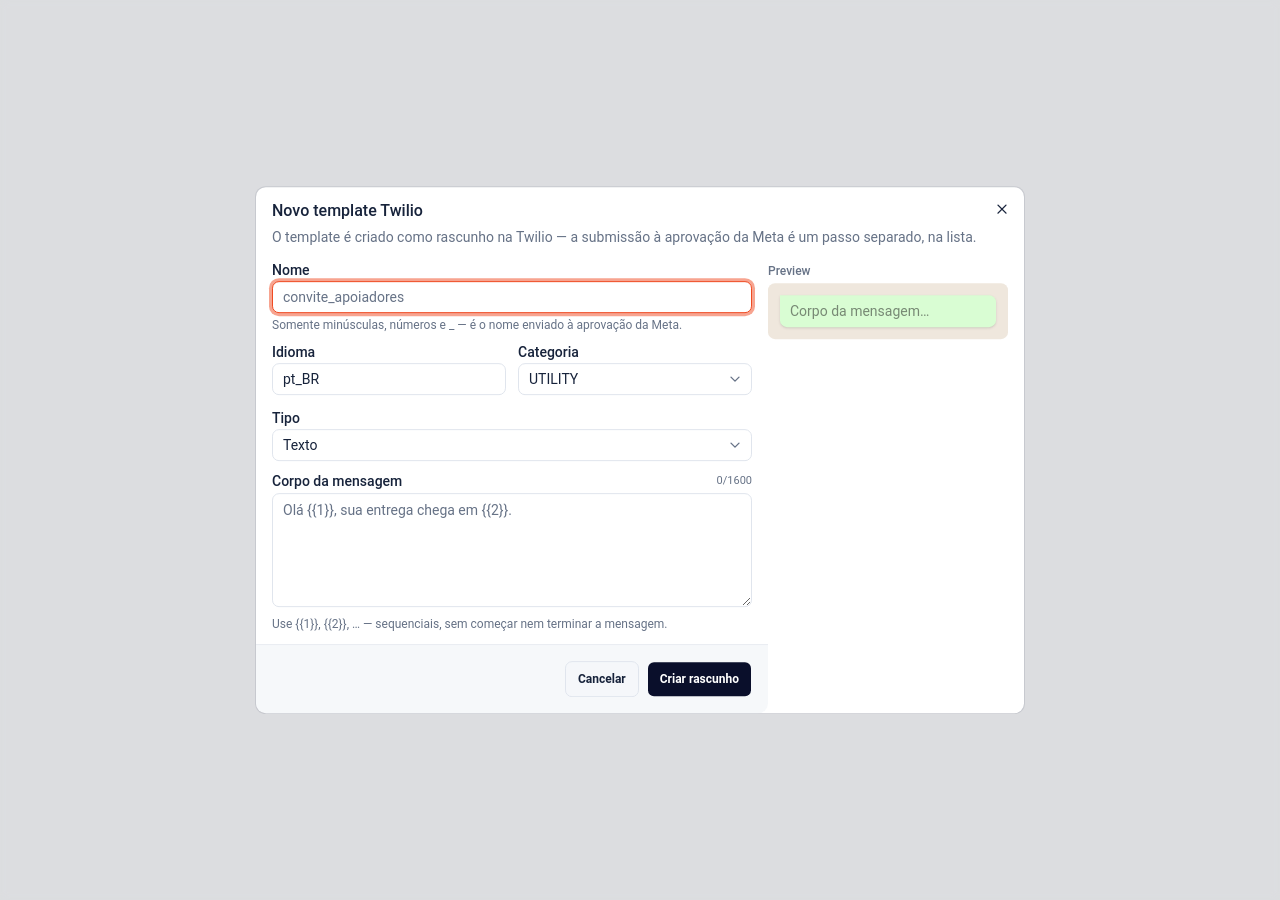
Test: TwilioTemplateFormDialog — criação twilio/text › avisa o custo ao escolher a categoria MARKETING
Expected: the text "Marketing custa ~8x mais que Utility" is not shown
Click the dropdown with id "twilio-category" at (635, 379), box [518, 363, 752, 395]
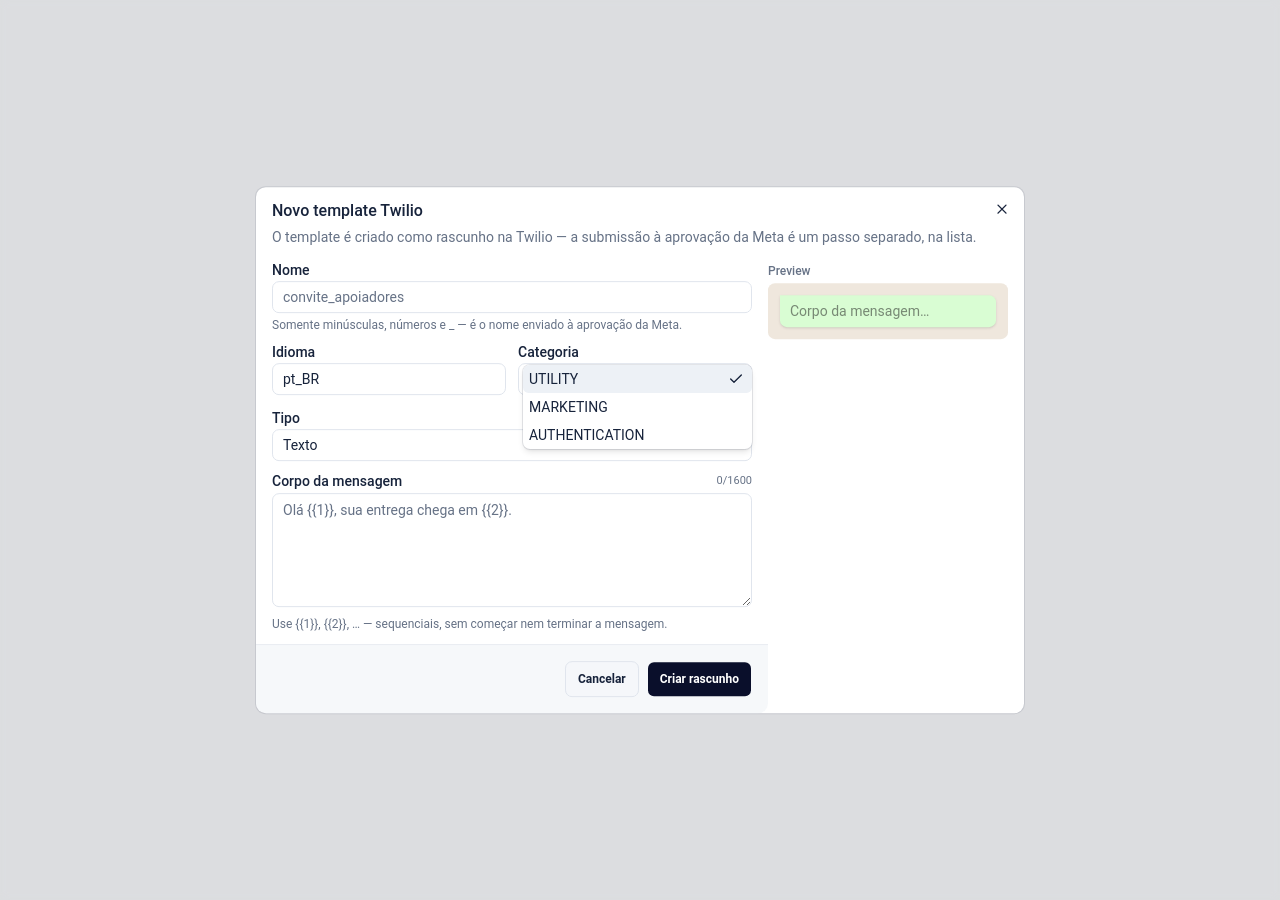
Click the option "MARKETING" at (568, 407), box [529, 399, 608, 415]
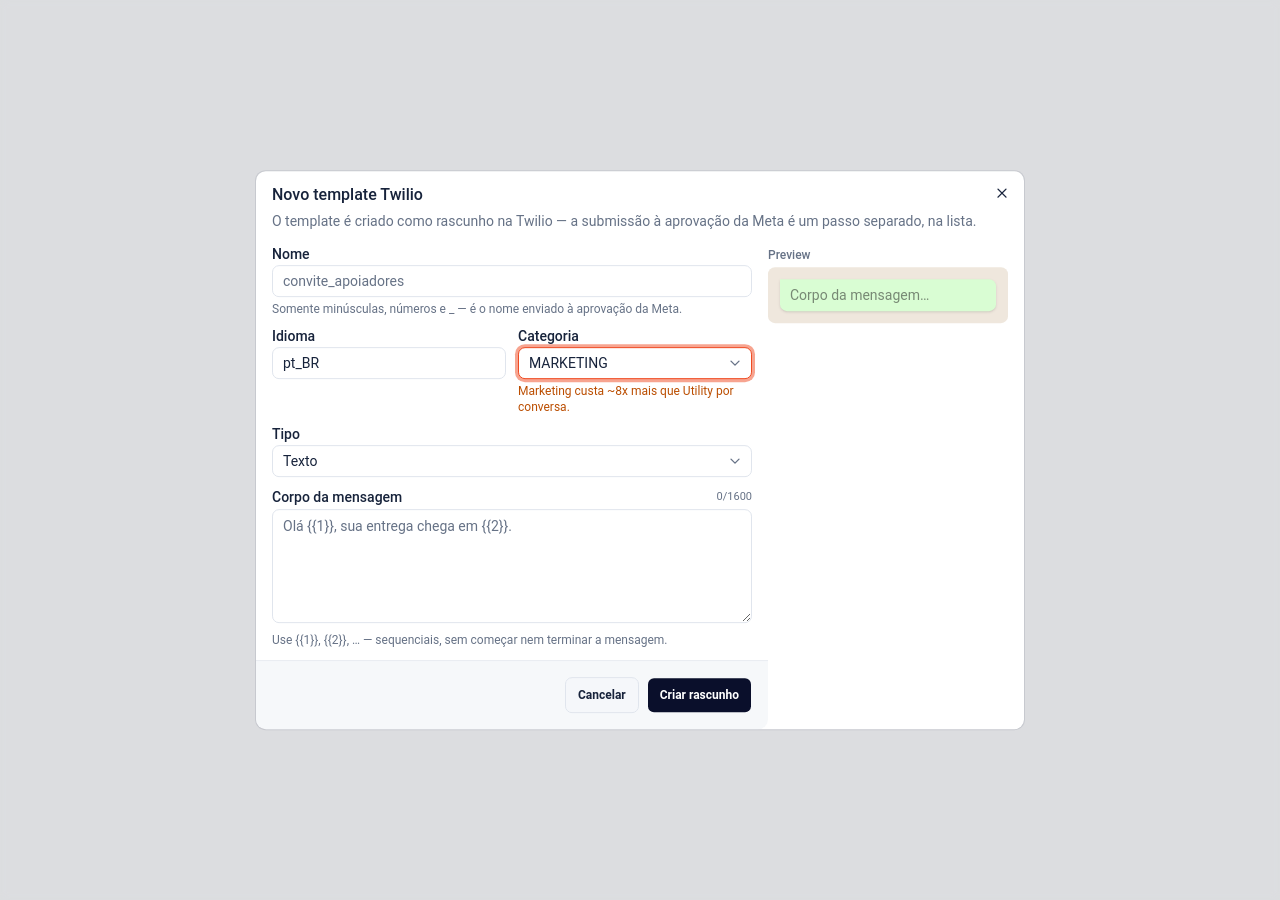
Expected: the text "Marketing custa ~8x mais que Utility por conversa." is shown, [518, 383, 752, 415]
